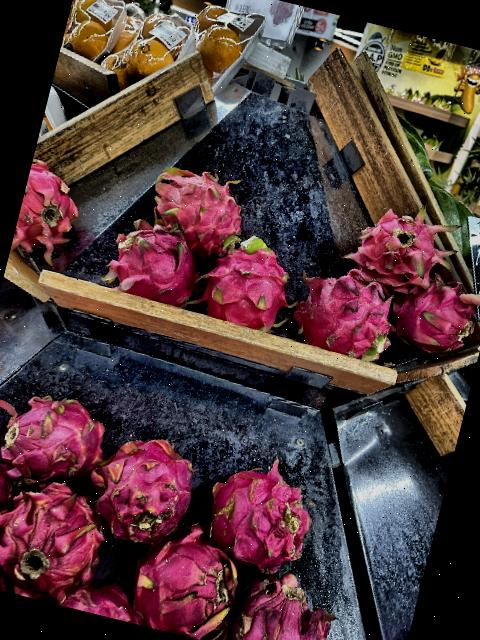buah-naga-belum-matang: (136, 156, 259, 259)
buah-naga-matang: (0, 468, 116, 607), (89, 200, 219, 320), (200, 458, 324, 579), (83, 430, 208, 548), (127, 521, 248, 640), (196, 227, 309, 345), (334, 191, 456, 300), (288, 260, 404, 368), (0, 387, 117, 485), (384, 261, 480, 360), (9, 162, 94, 269), (231, 574, 346, 640), (0, 453, 25, 565)
